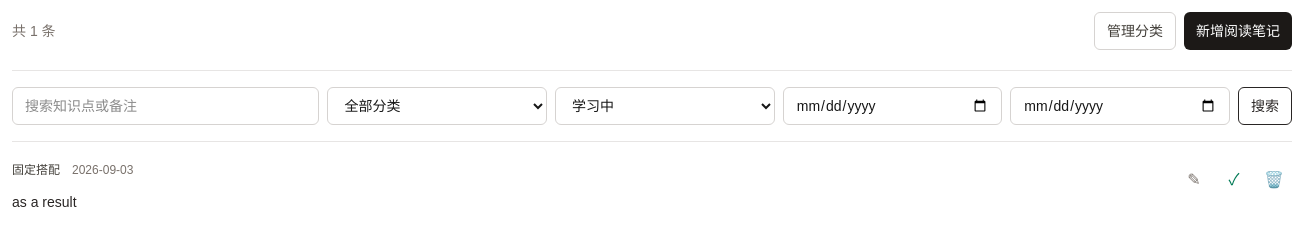
Test: reading management performance contracts › updates mastered state before the write resolves and performs at most one background GET
Click the button named "标记为已掌握".
click(1234, 180)  # box x1=1216 y1=162 x2=1252 y2=198
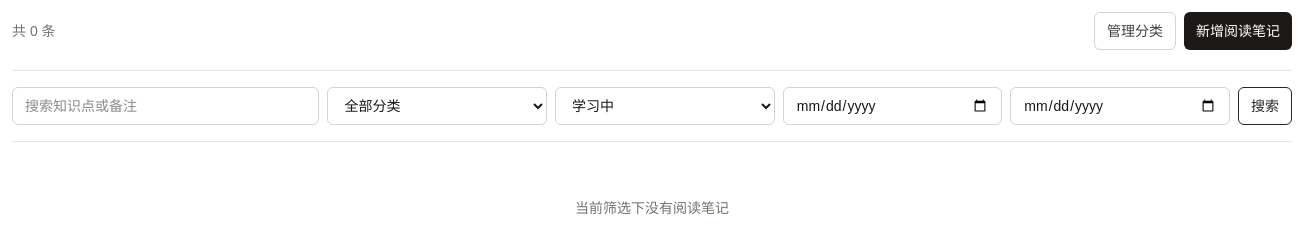
Now the text "as a result" is gone
